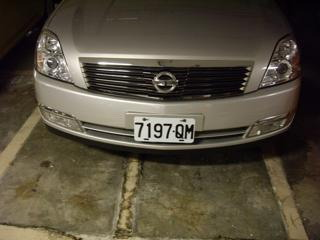plate: (131, 114, 196, 144)
